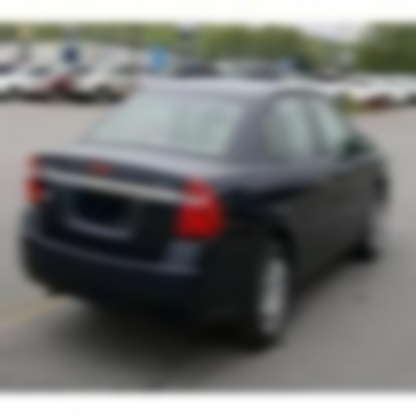Vehicle: (17, 76, 395, 357)
